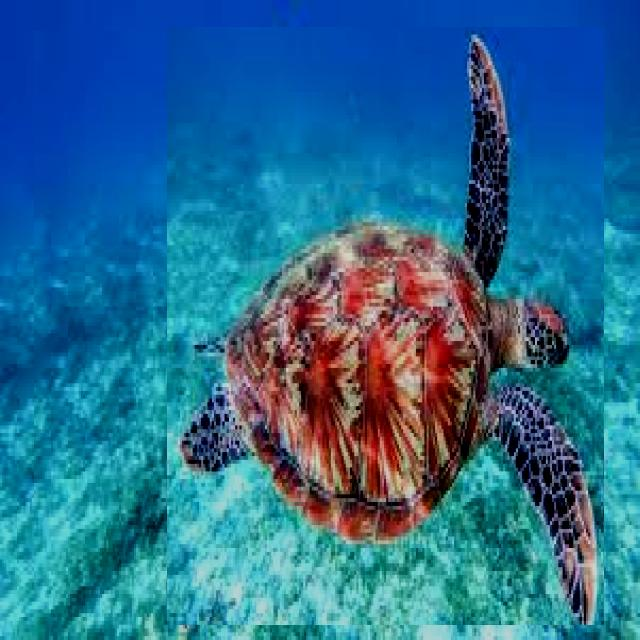Sea turtle: (167, 27, 604, 625)
